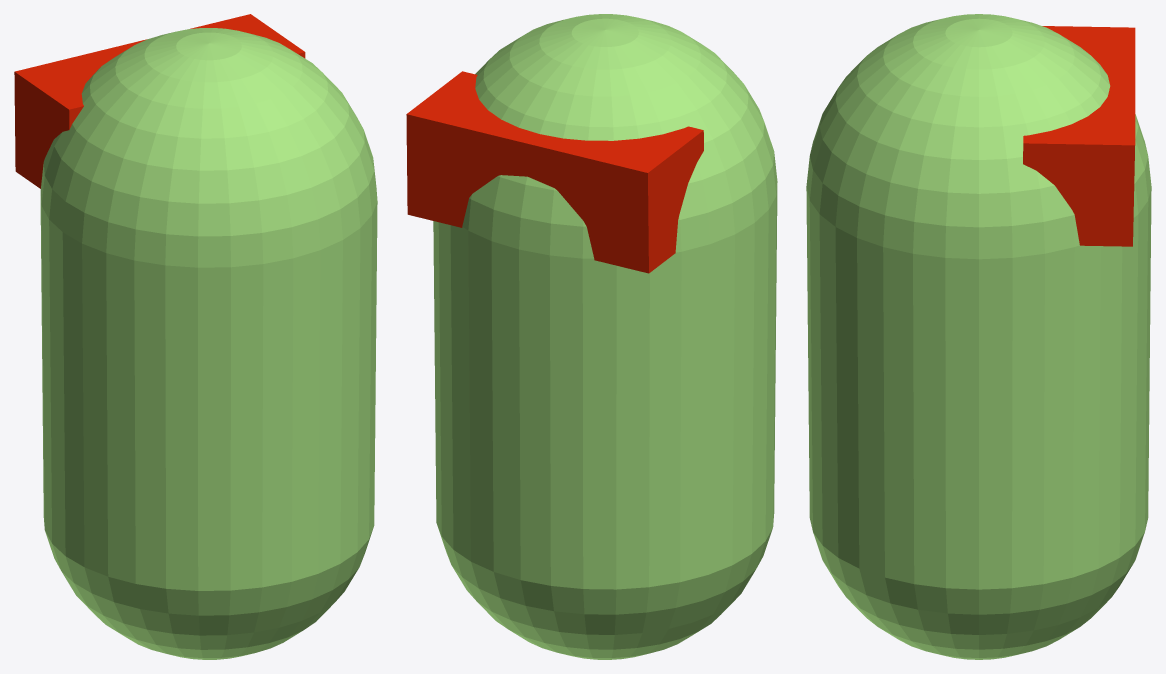
3 renders of one model, left to right at view 1: azimuth 30°, elevation 25°; view 2: azimuth 150°, elevation 25°; view 3: azimuth 270°, elevation 25°, orthographic. The views are drawn at different scales.
Parts seen in each view (by area): view 1: Sphere, Cube; view 2: Sphere, Cube; view 3: Sphere, Cube.
Boxes of the visible parts, box(x1,y1,x2,y2) form: Sphere: box(40, 28, 377, 659); Cube: box(14, 14, 305, 188); Sphere: box(433, 14, 777, 659); Cube: box(406, 71, 703, 273); Sphere: box(806, 14, 1151, 659); Cube: box(1023, 26, 1135, 246).
Bounding box in the file's own units: 1 × 1.96 × 1.
